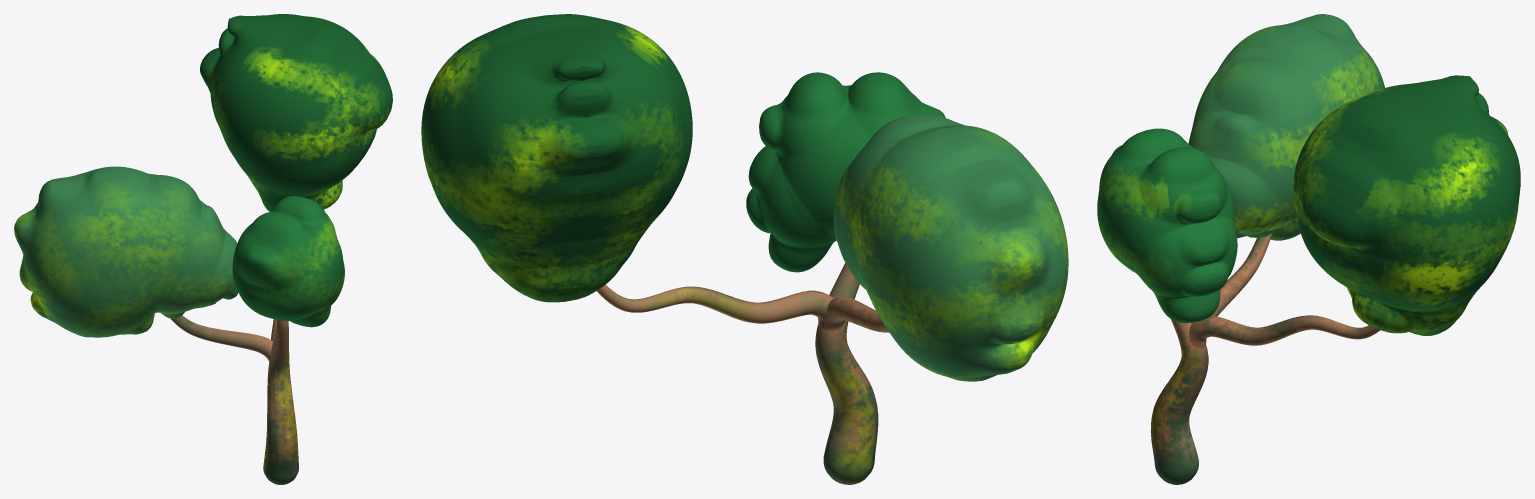
File: arbol (1).glb
3 renders of one model, left to right at view 1: azimuth 30°, elevation 25°; view 2: azimuth 150°, elevation 25°; view 3: azimuth 270°, elevation 25°, orthographic. The views are drawn at different scales.
Visible parts, largest first — view 1: Object_7, Object_5, Object_9, node_id59_7; view 2: Object_5, Object_7, Object_9, node_id59_7; view 3: Object_5, Object_7, Object_9, node_id59_7.
Part boxes in pixels (bbox=[...]): Object_7: bbox=[14, 166, 238, 337]; Object_5: bbox=[200, 14, 392, 211]; Object_9: bbox=[232, 196, 344, 327]; node_id59_7: bbox=[170, 315, 298, 484]; Object_5: bbox=[421, 14, 692, 302]; Object_7: bbox=[833, 114, 1068, 381]; Object_9: bbox=[746, 72, 945, 272]; node_id59_7: bbox=[597, 263, 889, 484]; Object_5: bbox=[1293, 75, 1520, 335]; Object_7: bbox=[1188, 14, 1384, 240]; Object_9: bbox=[1097, 128, 1237, 323]; node_id59_7: bbox=[1150, 232, 1380, 484].
Bounding box in the file's own units: 0.9328 × 0.8301 × 0.7113.
6 materials, 6 textured.
